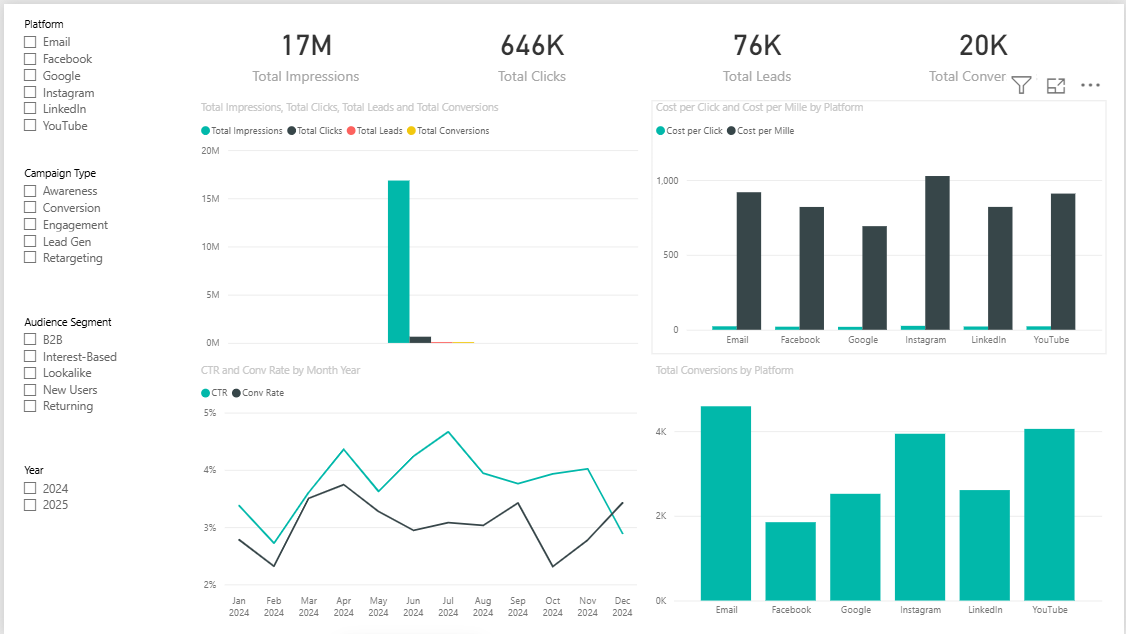

This screenshot's page, from the dashboard's own definition file:
{"tool":"powerbi","page":{"name":"Platform & Funnel","canvas":[1280,720],"ordinal":1},"visuals":[{"type":"slicer","fields":{"Values":["Campaigns.Platform"]},"box":[10,10,200,160],"z":0},{"type":"slicer","fields":{"Values":["Campaigns.Campaign Type"]},"box":[10,180,200,160],"z":1000},{"type":"slicer","fields":{"Values":["Campaigns.Audience Segment"]},"box":[10,350,200,160],"z":2000},{"type":"slicer","fields":{"Values":["DateTable.Year"]},"box":[10,520,200,160],"z":3000},{"type":"card","fields":{"Values":["Campaigns.Total Impressions"]},"box":[220,10,250,90],"z":4000},{"type":"card","fields":{"Values":["Campaigns.Total Clicks"]},"box":[478,10,250,90],"z":5000},{"type":"card","fields":{"Values":["Campaigns.Total Leads"]},"box":[736,10,250,90],"z":6000},{"type":"card","fields":{"Values":["Campaigns.Total Conversions"]},"box":[994,10,250,90],"z":7000},{"type":"clusteredColumnChart","fields":{"Y":["Campaigns.Total Impressions","Campaigns.Total Clicks","Campaigns.Total Leads","Campaigns.Total Conversions"]},"box":[220,110,510,290],"z":8000},{"type":"clusteredColumnChart","fields":{"Category":["Campaigns.Platform"],"Y":["Campaigns.Cost per Click","Campaigns.Cost per Mille"]},"box":[740,110,520,290],"z":9000},{"type":"lineChart","fields":{"Category":["DateTable.Month Year"],"Y":["Campaigns.CTR","Campaigns.Conv Rate"]},"box":[220,410,510,300],"z":10000},{"type":"clusteredColumnChart","fields":{"Category":["Campaigns.Platform"],"Y":["Campaigns.Total Conversions"]},"box":[740,410,520,300],"z":11000}]}

Visuals, with their boxes in screenshot pixels (x1, y1, x2, y2), scaled from the page's 1280x720 canvas onto the 1126x634 screenshot:
slicer - Campaigns.Platform: <bbox>9, 9, 185, 150</bbox>
slicer - Campaigns.Campaign Type: <bbox>9, 158, 185, 299</bbox>
slicer - Campaigns.Audience Segment: <bbox>9, 308, 185, 449</bbox>
slicer - DateTable.Year: <bbox>9, 458, 185, 599</bbox>
card - Campaigns.Total Impressions: <bbox>194, 9, 413, 88</bbox>
card - Campaigns.Total Clicks: <bbox>420, 9, 640, 88</bbox>
card - Campaigns.Total Leads: <bbox>647, 9, 867, 88</bbox>
card - Campaigns.Total Conversions: <bbox>874, 9, 1094, 88</bbox>
clusteredColumnChart - Campaigns.Total Impressions x Campaigns.Total Clicks: <bbox>194, 97, 642, 352</bbox>
clusteredColumnChart - Campaigns.Platform x Campaigns.Cost per Click: <bbox>651, 97, 1108, 352</bbox>
lineChart - DateTable.Month Year x Campaigns.CTR: <bbox>194, 361, 642, 625</bbox>
clusteredColumnChart - Campaigns.Platform x Campaigns.Total Conversions: <bbox>651, 361, 1108, 625</bbox>
